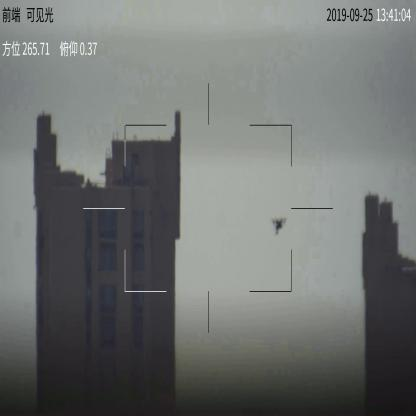uav: (270, 217, 290, 237)
